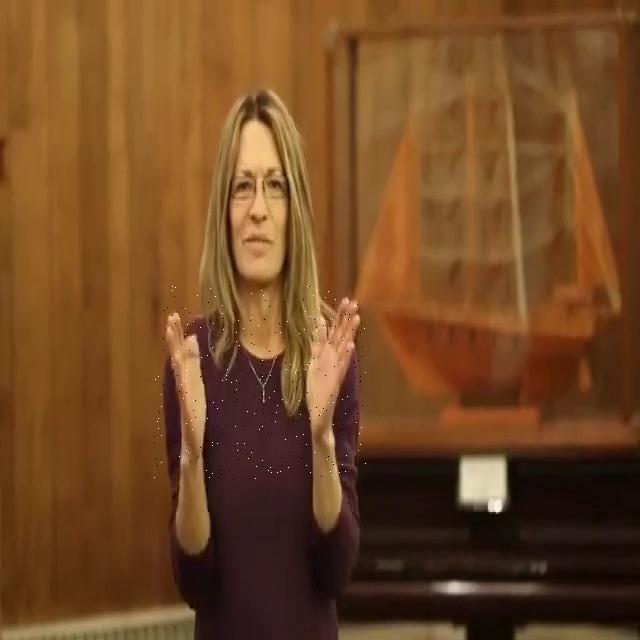small: (154, 285, 366, 480)
